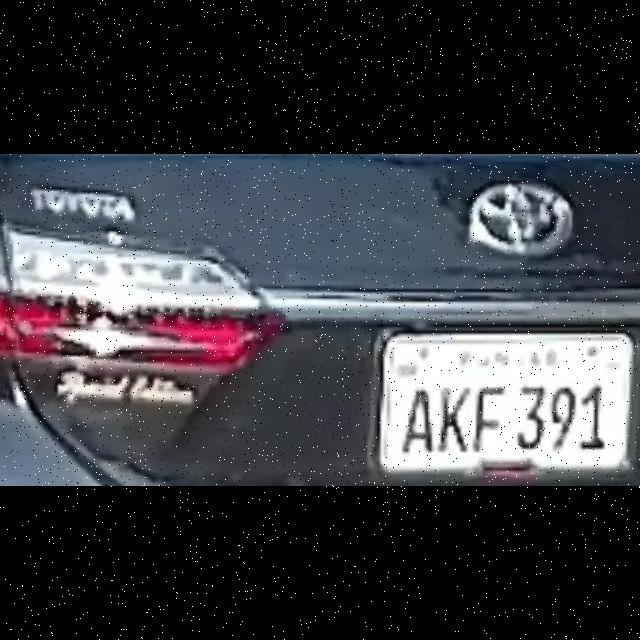1: (576, 381, 612, 453)
3: (506, 381, 540, 453)
9: (542, 381, 576, 453)
A: (400, 381, 434, 453)
F: (470, 381, 506, 453)
K: (436, 381, 470, 453)
